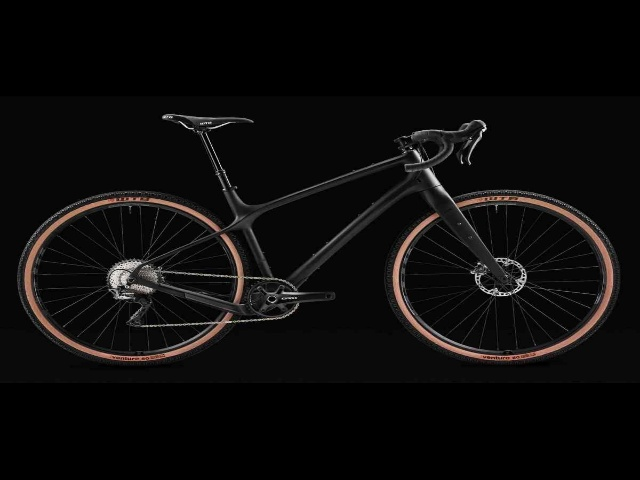bike: (18, 114, 626, 384)
